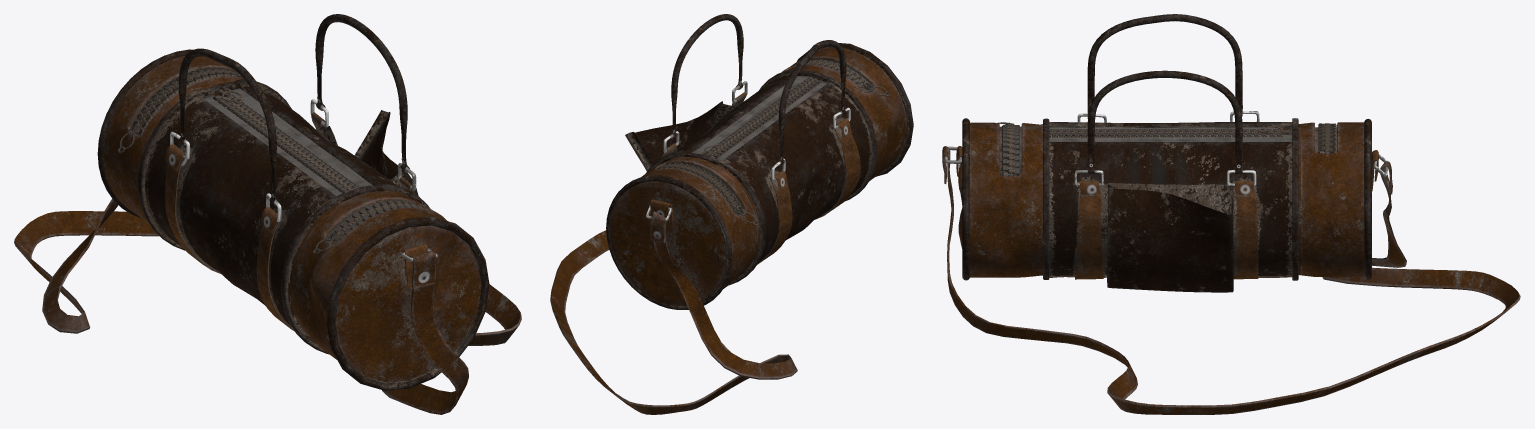
File: leatherback-turtle.glb
The picture shows the model from 3 angles, left to right: view 1: azimuth 30°, elevation 25°; view 2: azimuth 150°, elevation 25°; view 3: azimuth 270°, elevation 25°; orthographic projection. The views are drawn at different scales.
Parts seen in each view (by area): view 1: Object_19, Object_9, Object_10, Object_11, Object_8, Object_12, Object_20, Object_21, Object_2, Object_17, Object_18, Object_3 (+2 smaller); view 2: Object_19, Object_8, Object_10, Object_9, Object_12, Object_11, Object_21, Object_18, Object_20, Object_17, Object_2, Object_3 (+2 smaller); view 3: Object_19, Object_12, Object_10, Object_9, Object_8, Object_11, Object_18, Object_21, Object_17, Object_20, Object_2, Object_4 (+2 smaller).
Boxes of the visible parts, x1,y1,x2,y2 form: Object_19: (138,79,429,354); Object_9: (289,190,481,382); Object_10: (14,199,521,414); Object_11: (172,72,489,390); Object_8: (103,56,243,223); Object_12: (97,49,418,218); Object_20: (178,48,279,205); Object_21: (315,14,409,172); Object_2: (121,70,430,251); Object_17: (165,112,324,274); Object_18: (256,177,415,331); Object_3: (133,67,417,244); Object_19: (646,69,877,285); Object_8: (609,156,760,305); Object_10: (550,211,797,414); Object_9: (782,47,907,181); Object_12: (606,101,735,309); Object_11: (646,43,913,232); Object_21: (669,14,743,138); Object_18: (732,92,860,219); Object_20: (777,40,846,165); Object_17: (661,143,792,264); Object_2: (661,59,887,223); Object_3: (657,59,871,213); Object_19: (1043,118,1298,280); Object_12: (1107,119,1371,292); Object_10: (942,146,1520,414); Object_9: (958,122,1045,277); Object_8: (1049,122,1364,277); Object_11: (944,118,1387,280); Object_18: (1075,181,1103,279); Object_21: (1087,70,1242,173); Object_17: (1233,121,1258,279); Object_20: (1087,14,1242,118); Object_2: (998,122,1329,172); Object_4: (1002,123,1336,174).
Size of the model in its own units: 4.06 by 3.54 by 6.45.
2 materials, 2 textured.
